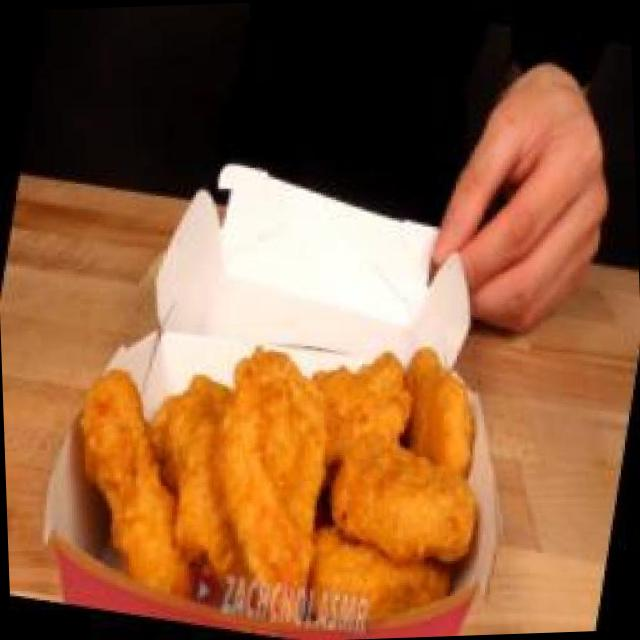nugget: (30, 260, 520, 640)
